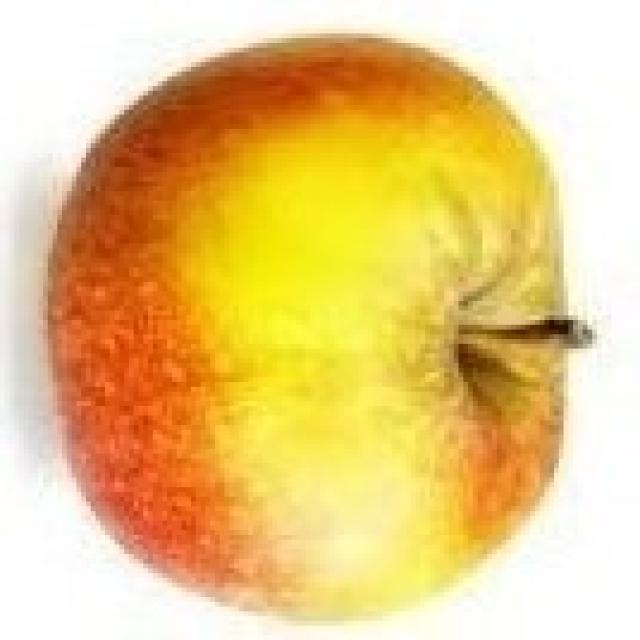75-_ripeness: (46, 30, 568, 630)
